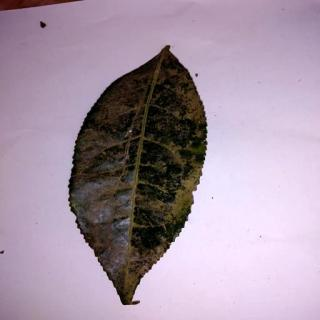Anthracnose: (70, 43, 211, 308)
